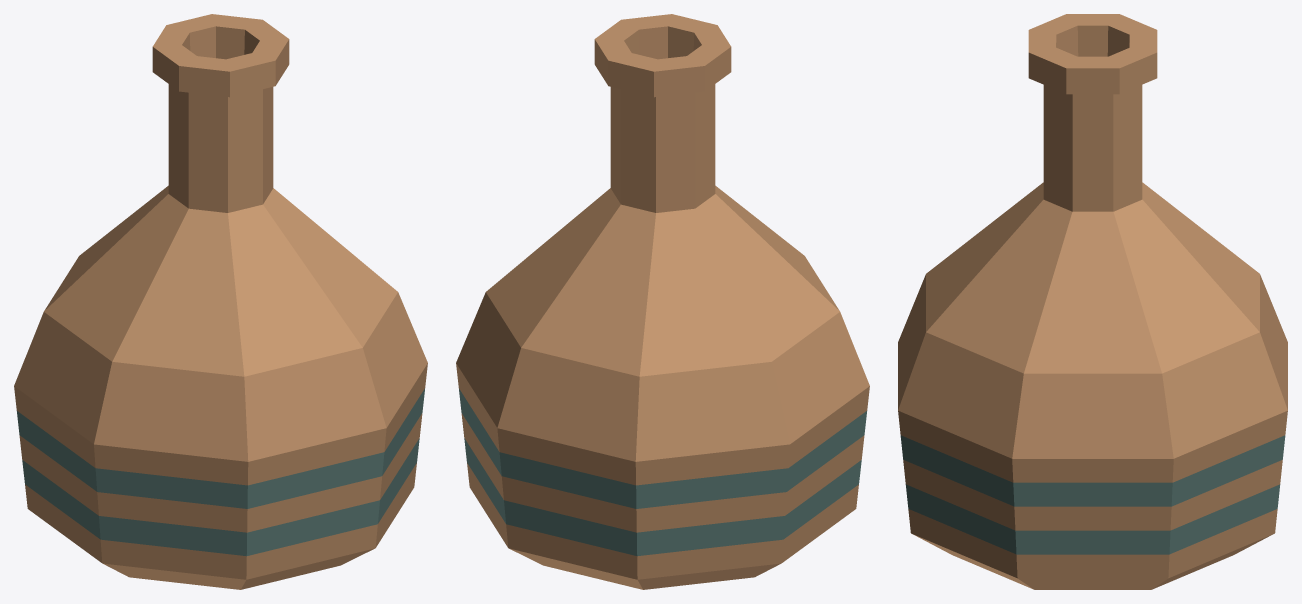
File: Jug_02.fbx
The picture shows the model from 3 angles, left to right: view 1: azimuth 30°, elevation 25°; view 2: azimuth 150°, elevation 25°; view 3: azimuth 270°, elevation 25°; orthographic projection.
Parts seen in each view (by area): view 1: Jug_02; view 2: Jug_02; view 3: Jug_02.
Part boxes in pixels (x1,y1,x2,y2): Jug_02: (14,14,427,589); Jug_02: (456,14,869,589); Jug_02: (898,14,1287,589).
Size of the model in its own units: 34.02 by 47.1 by 34.02.
